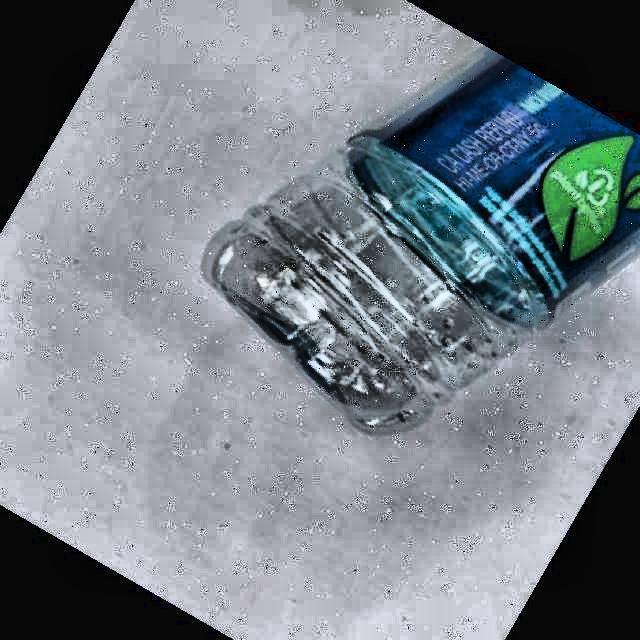plastic: (206, 55, 640, 429)
